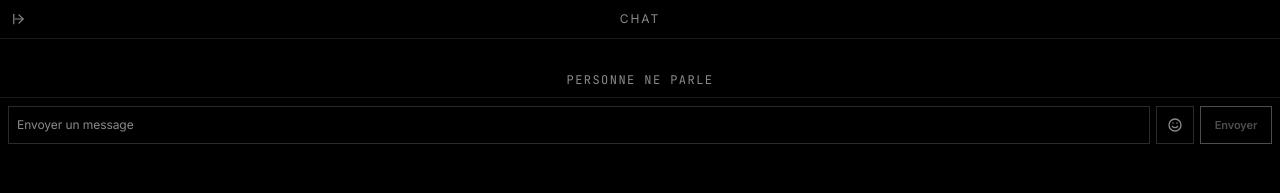
Test: Chat · commandes de modération › /freeze fige le chat via chat_set_settings
The image size is (1280, 193).
Expected: the text "personne ne parle" is shown, [566,72,713,88]
Type "/freeze" into the field at (579,125), box [8,106,1150,144]
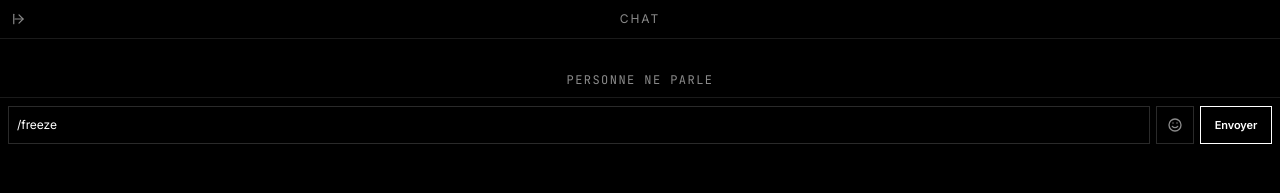
Click the button "Envoyer" at (1236,125), box [1200,106,1272,144]
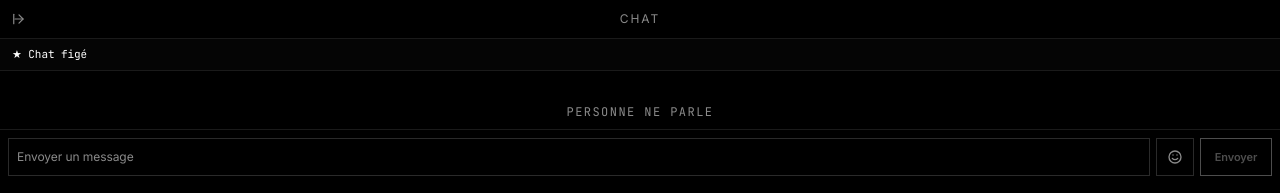
Expected: the text "★ Chat figé" is shown, [0,39,1279,71]
